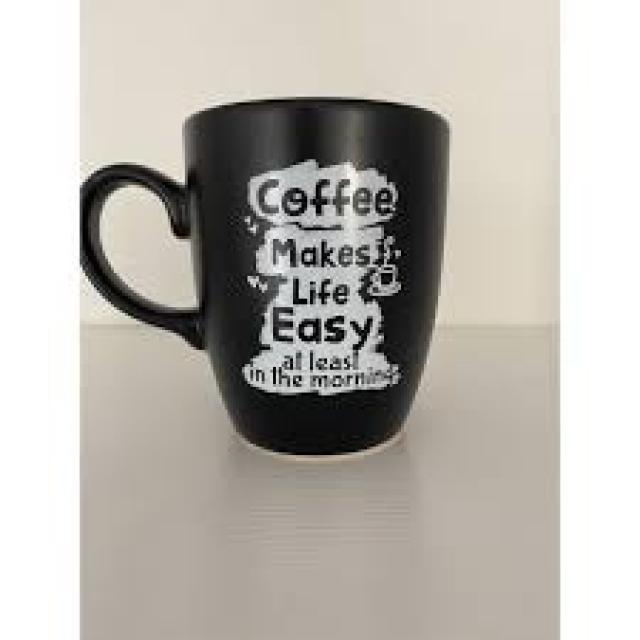taza: (73, 97, 454, 460)
